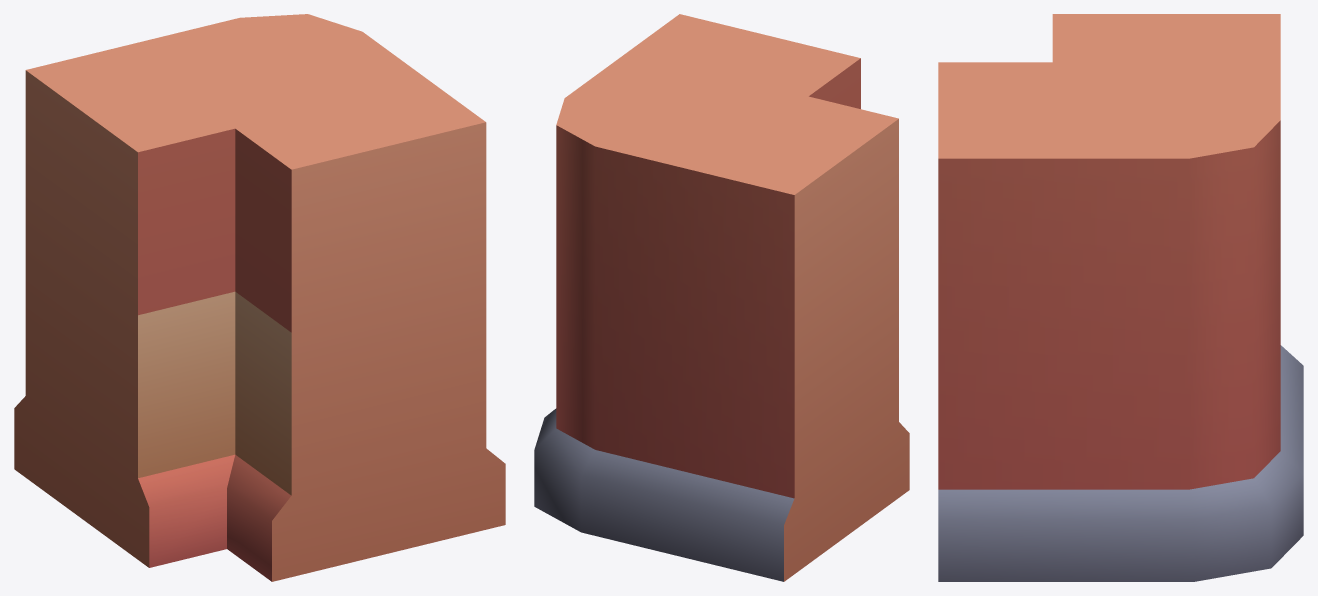
The model's file is wall-corner.obj.
3 views of the same model, side by side, from view 1: azimuth 30°, elevation 25°; view 2: azimuth 150°, elevation 25°; view 3: azimuth 270°, elevation 25° (orthographic). The views are drawn at different scales.
Parts seen in each view (by area): view 1: wall-corner; view 2: wall-corner; view 3: wall-corner.
Boxes of the visible parts, <box> form: wall-corner: <box>14,14,505,581</box>; wall-corner: <box>534,14,909,581</box>; wall-corner: <box>938,14,1303,581</box>.
Size of the model in its own units: 0.8 by 1 by 0.8.
